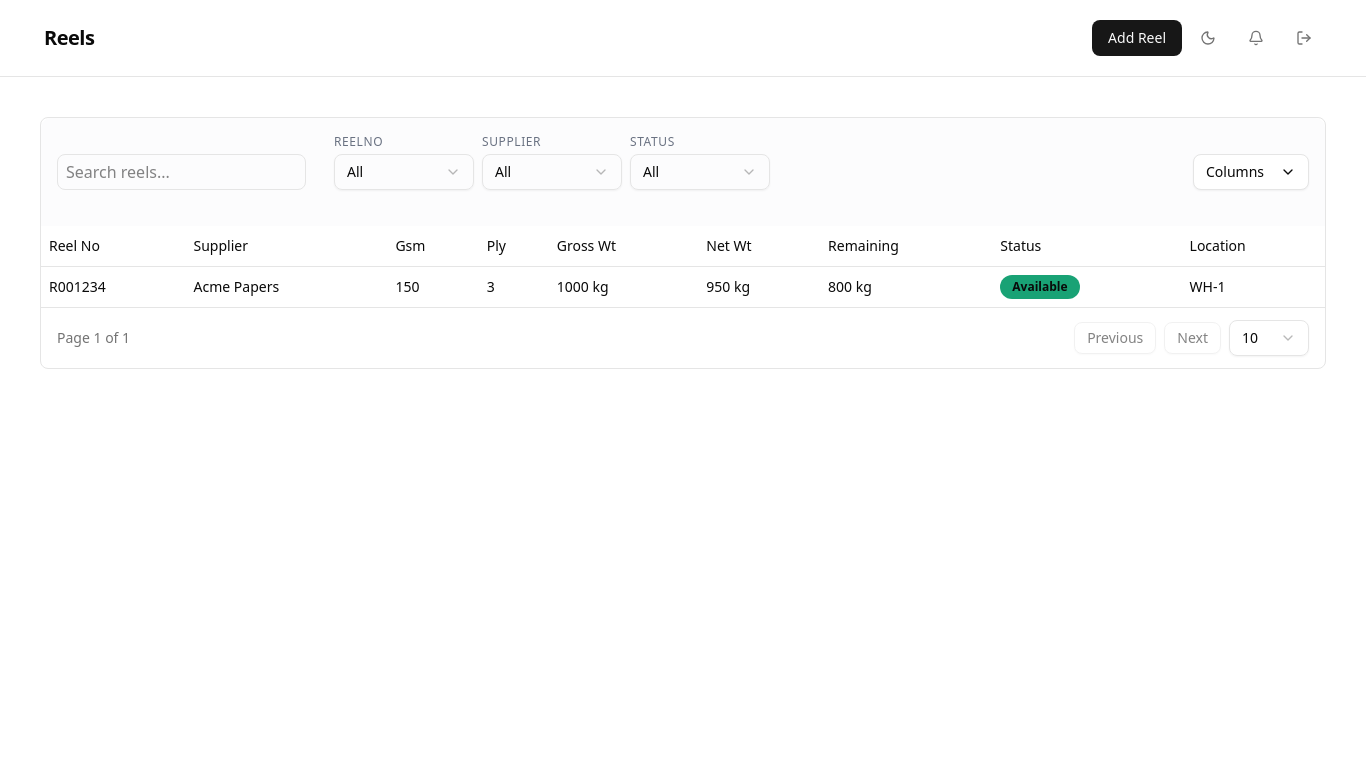
Test: ReelsClient › opens the add dialog with the supplied list of suppliers
The width and height of the screenshot is (1366, 768).
Click the button "Add Reel": click(1137, 38) [1092,20,1182,56]
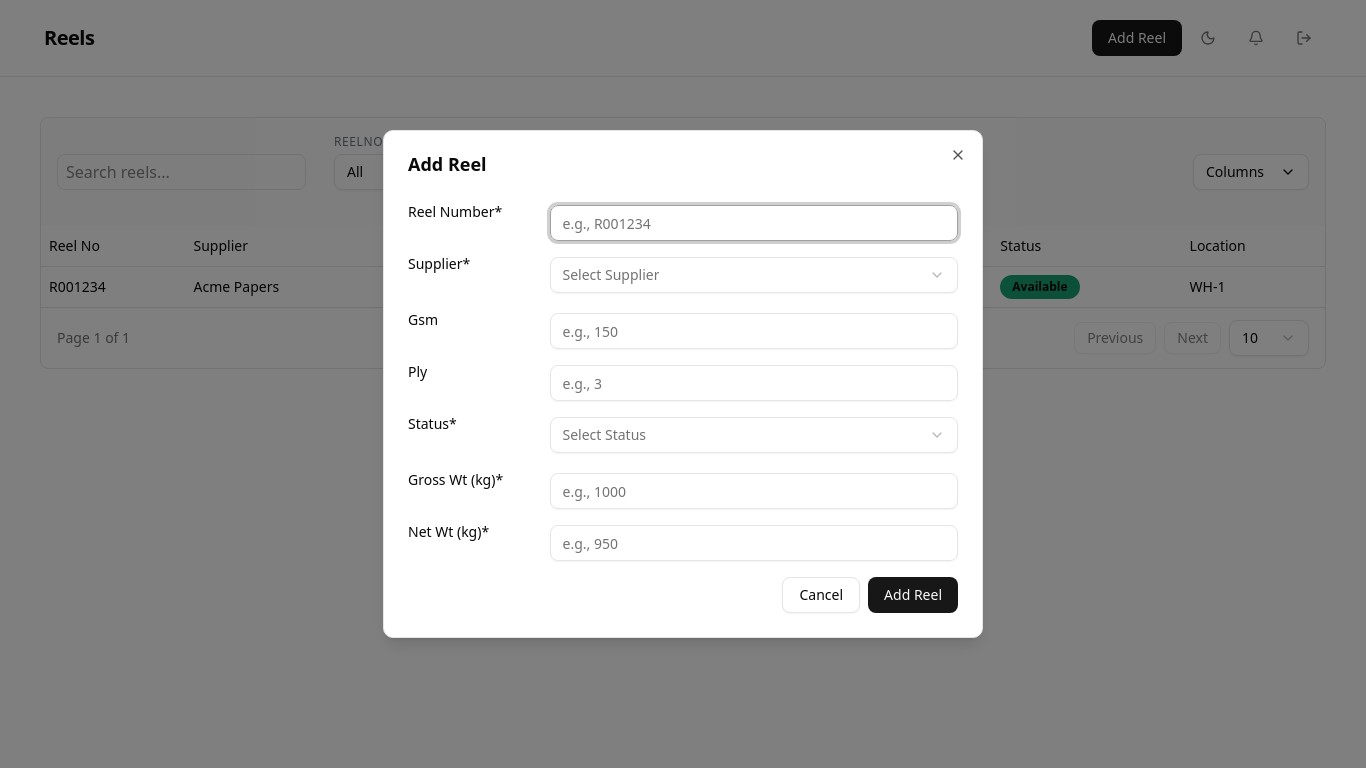
Result: the heading "Add Reel" is shown at [408,152,486,176]
Click the dropdown labelled "Select Supplier": click(611, 274) [550,257,958,293]
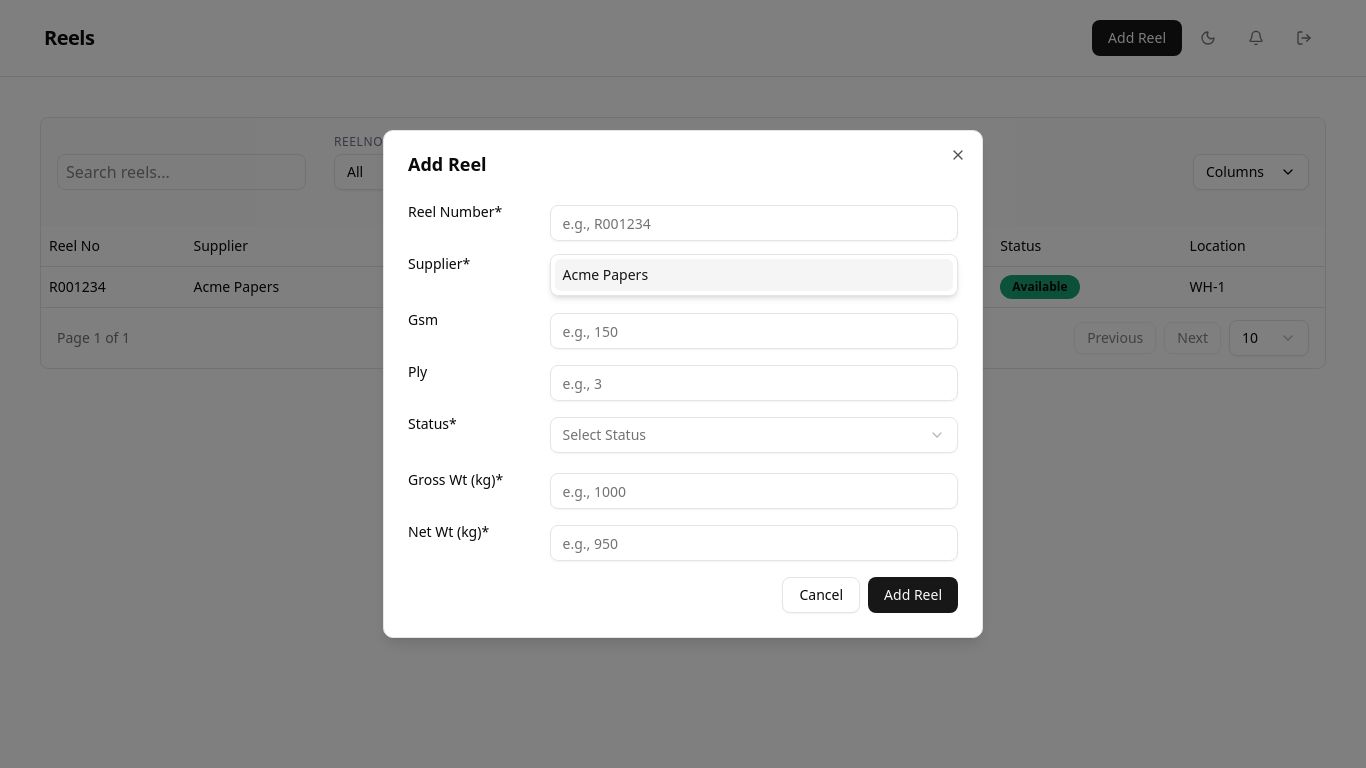
Result: the option "Acme Papers" is shown
Click the option "Acme Papers": click(605, 274) [554,259,953,291]
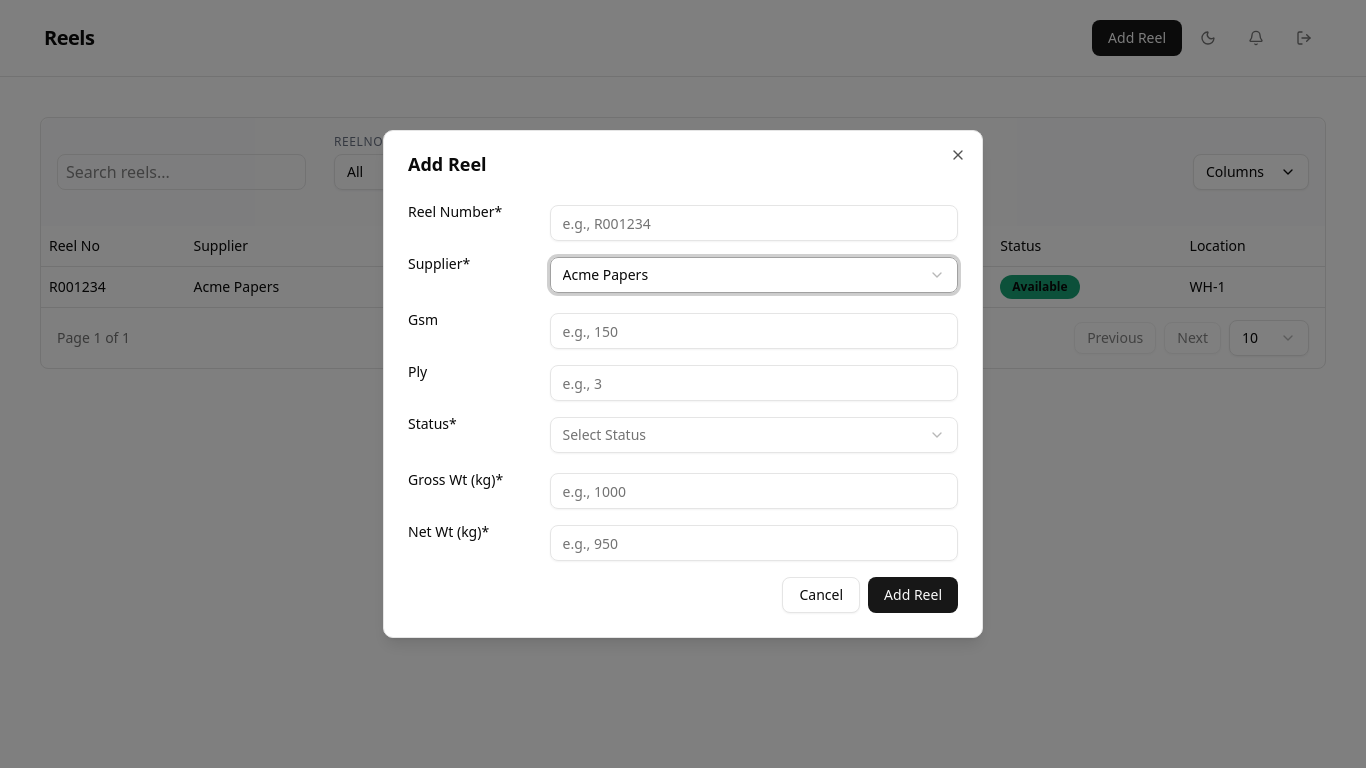
Click the button "Cancel": click(821, 595) [782,577,860,613]
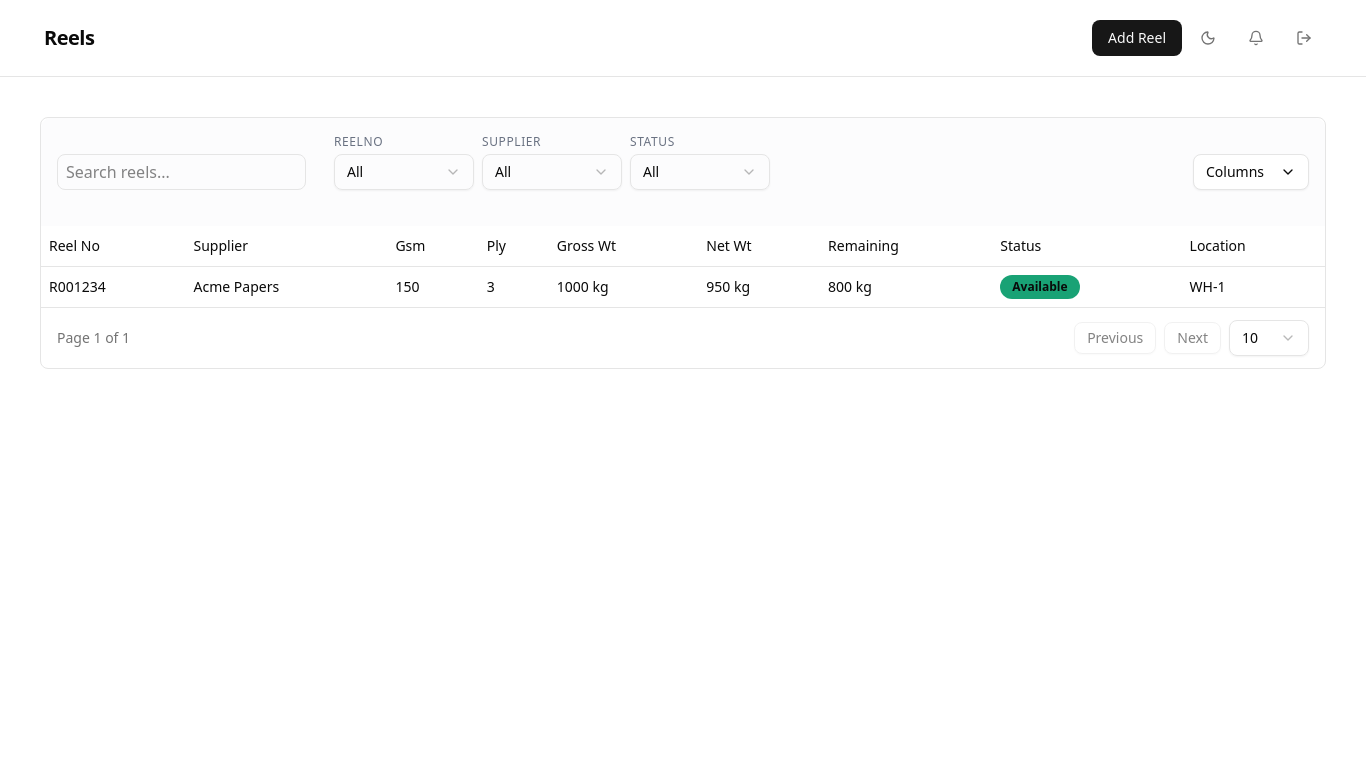
Result: the dialog is gone
